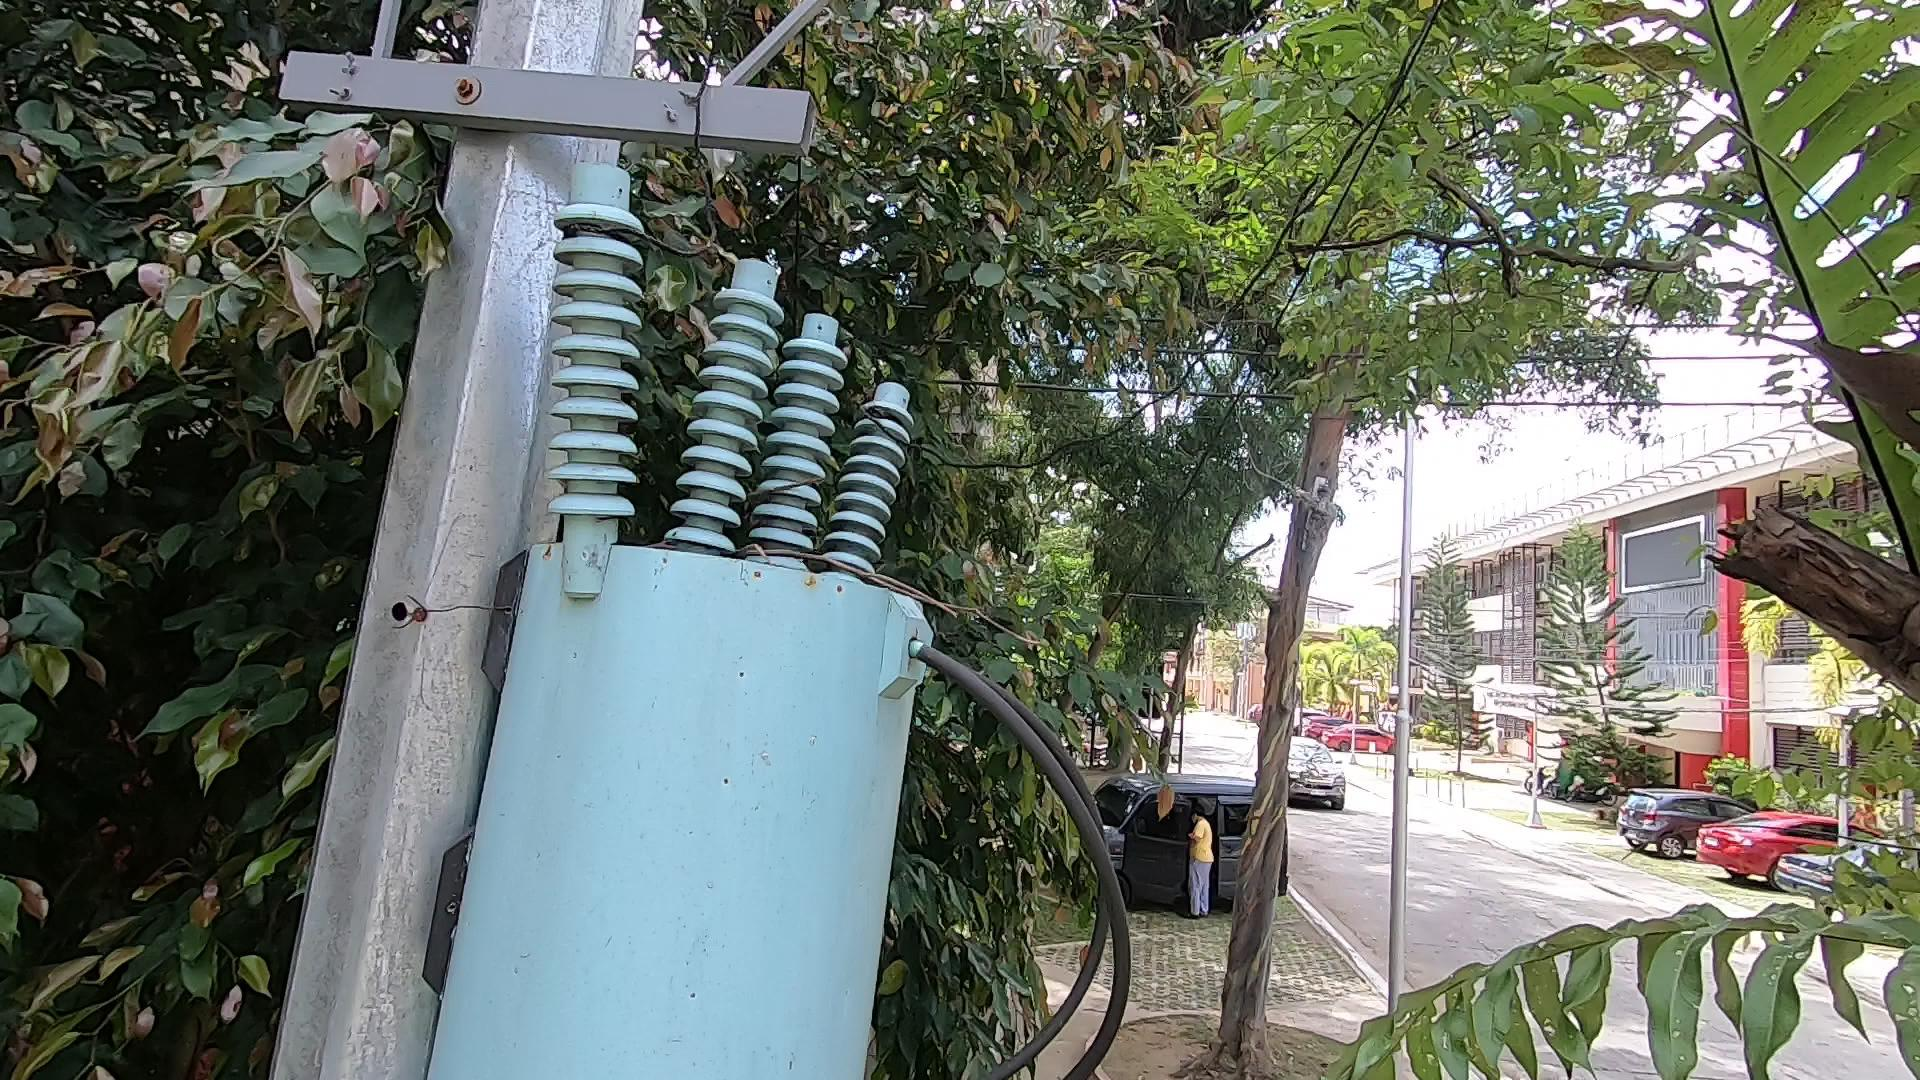tree branch: (636, 516, 1056, 655)
